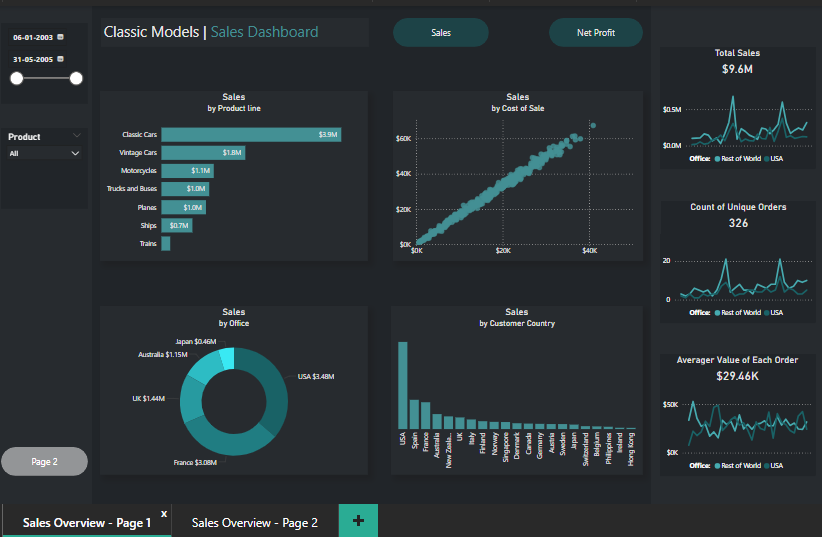

The page's visual inventory and layout, read from the dashboard file:
{"tool":"powerbi","page":{"name":"Sales Overview - Page 1","canvas":[1500,900],"ordinal":0},"visuals":[{"type":"shape","box":[0,0,170,900],"z":0},{"type":"shape","box":[1180.1,0,319.9,900],"z":1000},{"type":"shape","box":[1198.2,74.1,280.1,220],"z":2000},{"type":"shape","box":[1198.2,628.9,280.1,220],"z":3000},{"type":"shape","box":[1198.2,351.5,280.1,220],"z":4000},{"type":"card","title":"Total Sales","fields":{"Values":["Sum(classicmodels sales_data_for_power_bi.sales_value)"]},"box":[1196.4,74.1,280.1,59.6],"z":5000},{"type":"card","title":"Count of Unique Orders","fields":{"Values":["Count(classicmodels sales_data_for_power_bi.orderNumber)"]},"box":[1198.2,352.4,280.1,59.6],"z":6000},{"type":"card","title":"Averager Value of Each Order","fields":{"Values":["classicmodels sales_data_for_power_bi.Average Sales Value per Order"]},"box":[1196.4,628.9,280.1,59.6],"z":7000},{"type":"lineChart","fields":{"Y":["Sum(classicmodels sales_data_for_power_bi.sales_value)"],"Category":["classicmodels sales_data_for_power_bi.orderDate.Variation.Date Hierarchy.Year","classicmodels sales_data_for_power_bi.orderDate.Variation.Date Hierarchy.Quarter","classicmodels sales_data_for_power_bi.orderDate.Variation.Date Hierarchy.Month"],"Series":["classicmodels sales_data_for_power_bi.Office Grouped"]},"box":[1196.4,133.7,280.1,160.8],"z":8000},{"type":"lineChart","fields":{"Category":["classicmodels sales_data_for_power_bi.orderDate.Variation.Date Hierarchy.Year","classicmodels sales_data_for_power_bi.orderDate.Variation.Date Hierarchy.Quarter","classicmodels sales_data_for_power_bi.orderDate.Variation.Date Hierarchy.Month"],"Series":["classicmodels sales_data_for_power_bi.Office Grouped"],"Y":["Count(classicmodels sales_data_for_power_bi.orderNumber)"]},"box":[1196.4,412,280.1,160.8],"z":9000},{"type":"lineChart","fields":{"Category":["classicmodels sales_data_for_power_bi.orderDate.Variation.Date Hierarchy.Year","classicmodels sales_data_for_power_bi.orderDate.Variation.Date Hierarchy.Quarter","classicmodels sales_data_for_power_bi.orderDate.Variation.Date Hierarchy.Month"],"Series":["classicmodels sales_data_for_power_bi.Office Grouped"],"Y":["classicmodels sales_data_for_power_bi.Average Sales Value per Order"]},"box":[1196.4,688.6,280.1,160.8],"z":10000},{"type":"clusteredBarChart","fields":{"Y":["Table.Selected Metric"],"Category":["classicmodels sales_data_for_power_bi.productLine"]},"box":[184.3,153.6,484.3,307.2],"z":11000},{"type":"actionButton","box":[713.9,21.7,173.5,52.4],"z":12000},{"type":"actionButton","box":[995.8,21.7,169.9,52.4],"z":13000},{"type":"columnChart","fields":{"Y":["Table.Selected Metric"],"Category":["classicmodels sales_data_for_power_bi.customer_country"]},"box":[710.2,542.2,455.4,305.4],"z":15000},{"type":"scatterChart","fields":{"Y":["Table.Selected Metric"],"X":["classicmodels sales_data_for_power_bi.cost_of_sales"],"Category":["classicmodels sales_data_for_power_bi.orderNumber"]},"box":[713.9,153.6,451.8,307.2],"z":16000},{"type":"donutChart","fields":{"Y":["Table.Selected Metric"],"Category":["classicmodels sales_data_for_power_bi.office_country"]},"box":[184.3,542.2,484.3,305.4],"z":17000},{"type":"textbox","box":[186.1,21.7,484.3,52.4],"z":18000},{"type":"actionButton","box":[5.4,797,157.2,52.4],"z":19000},{"type":"slicer","fields":{"Values":["classicmodels sales_data_for_power_bi.orderDate"]},"box":[5.4,30.7,157.2,146.4],"z":20000},{"type":"slicer","fields":{"Values":["classicmodels sales_data_for_power_bi.productName"]},"box":[5.4,220.5,157.2,146.4],"z":21000}]}

Visuals, with their boxes on the page's 1500x900 design canvas (x1, y1, x2, y2). These are canvas units, not pixel positions in the 822x537 screenshot, which may show the page scaled, cropped or inside an application window:
shape: pyautogui.locateOnScreen(0, 0, 170, 900)
shape: pyautogui.locateOnScreen(1180, 0, 1500, 900)
shape: pyautogui.locateOnScreen(1198, 74, 1478, 294)
shape: pyautogui.locateOnScreen(1198, 629, 1478, 849)
shape: pyautogui.locateOnScreen(1198, 352, 1478, 572)
"Total Sales" card: pyautogui.locateOnScreen(1196, 74, 1476, 134)
"Count of Unique Orders" card: pyautogui.locateOnScreen(1198, 352, 1478, 412)
"Averager Value of Each Order" card: pyautogui.locateOnScreen(1196, 629, 1476, 688)
lineChart - Sum(classicmodels sales_data_for_power_bi.sales_value) x classicmodels sales_data_for_power_bi.orderDate.Variation.Date Hierarchy.Year: pyautogui.locateOnScreen(1196, 134, 1476, 294)
lineChart - classicmodels sales_data_for_power_bi.orderDate.Variation.Date Hierarchy.Year x classicmodels sales_data_for_power_bi.orderDate.Variation.Date Hierarchy.Quarter: pyautogui.locateOnScreen(1196, 412, 1476, 573)
lineChart - classicmodels sales_data_for_power_bi.orderDate.Variation.Date Hierarchy.Year x classicmodels sales_data_for_power_bi.orderDate.Variation.Date Hierarchy.Quarter: pyautogui.locateOnScreen(1196, 689, 1476, 849)
clusteredBarChart - Table.Selected Metric x classicmodels sales_data_for_power_bi.productLine: pyautogui.locateOnScreen(184, 154, 669, 461)
actionButton: pyautogui.locateOnScreen(714, 22, 887, 74)
actionButton: pyautogui.locateOnScreen(996, 22, 1166, 74)
columnChart - Table.Selected Metric x classicmodels sales_data_for_power_bi.customer_country: pyautogui.locateOnScreen(710, 542, 1166, 848)
scatterChart - Table.Selected Metric x classicmodels sales_data_for_power_bi.cost_of_sales: pyautogui.locateOnScreen(714, 154, 1166, 461)
donutChart - Table.Selected Metric x classicmodels sales_data_for_power_bi.office_country: pyautogui.locateOnScreen(184, 542, 669, 848)
textbox: pyautogui.locateOnScreen(186, 22, 670, 74)
actionButton: pyautogui.locateOnScreen(5, 797, 163, 849)
slicer - classicmodels sales_data_for_power_bi.orderDate: pyautogui.locateOnScreen(5, 31, 163, 177)
slicer - classicmodels sales_data_for_power_bi.productName: pyautogui.locateOnScreen(5, 220, 163, 367)
